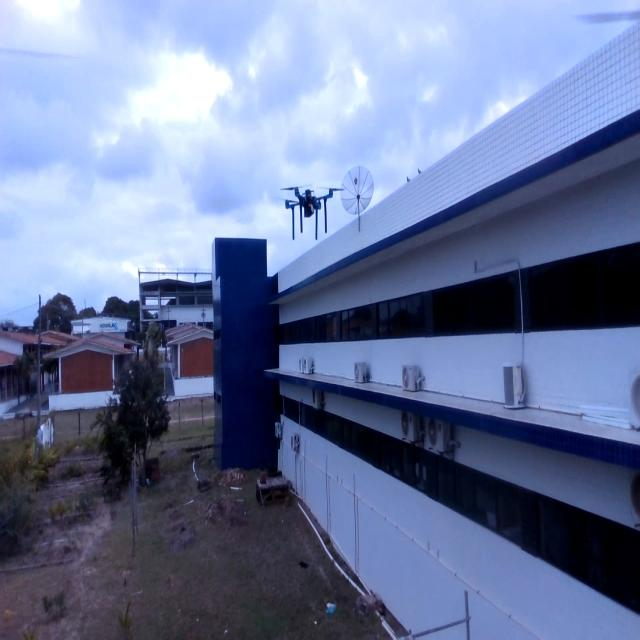-uav-: (273, 172, 349, 249)
